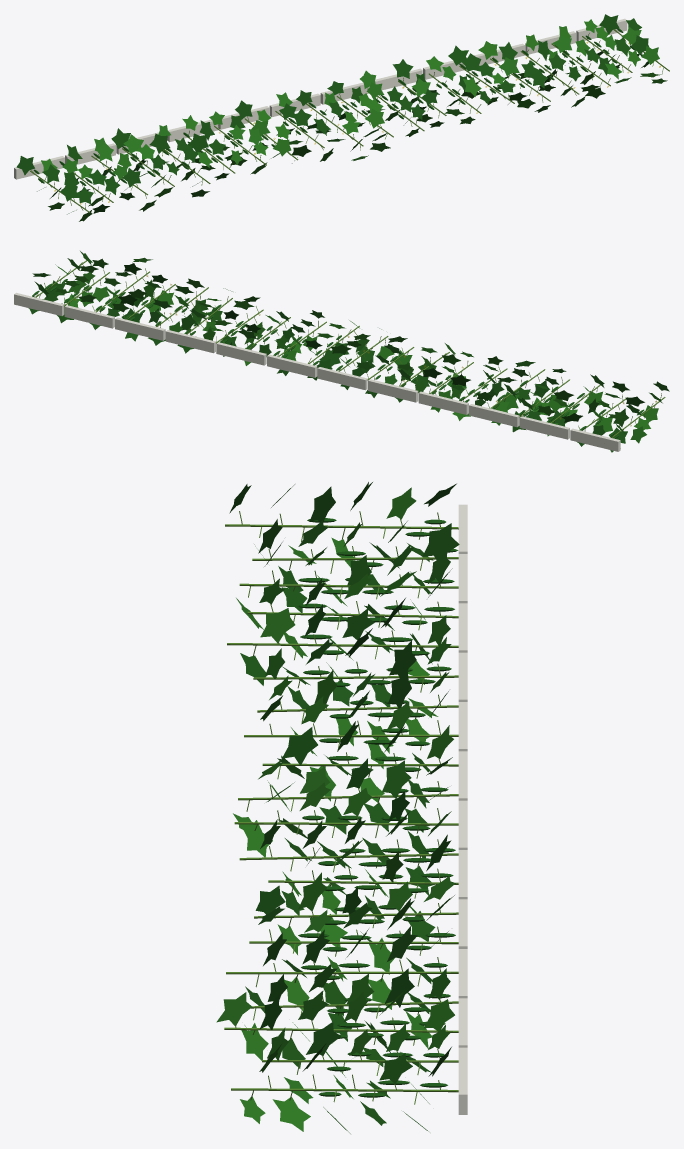
The model's file is row24.obj.
3 views of the same model, one above another, from view 1: azimuth 30°, elevation 25°; view 2: azimuth 150°, elevation 25°; view 3: azimuth 270°, elevation 25° (orthographic). The views are drawn at different scales.
Visible parts, largest first — view 1: row24; view 2: row24; view 3: row24.
Part boxes in pixels (left/top/right/bottom): row24: left=14, top=14, right=669, bottom=221; row24: left=14, top=251, right=669, bottom=452; row24: left=216, top=482, right=467, bottom=1133.
Bounding box in the file's own units: 12.5 × 0.9075 × 2.24.
